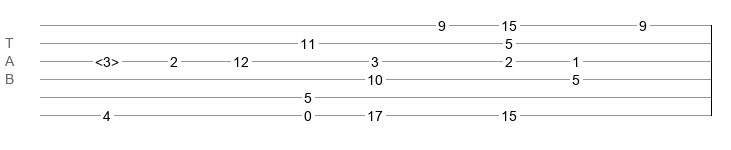0: (304, 108, 312, 118)
1: (572, 54, 580, 64)
10: (367, 72, 383, 82)
11: (300, 36, 316, 46)
12: (233, 54, 249, 64)
15: (501, 108, 517, 118), (501, 18, 517, 28)
17: (367, 108, 383, 118)
2: (170, 54, 178, 64), (505, 54, 513, 64)
3: (371, 54, 379, 64)
4: (103, 108, 111, 118)
5: (304, 90, 312, 100), (505, 36, 513, 46), (572, 72, 580, 82)
9: (438, 18, 446, 28), (639, 18, 647, 28)
harmonic: (95, 54, 119, 64)
